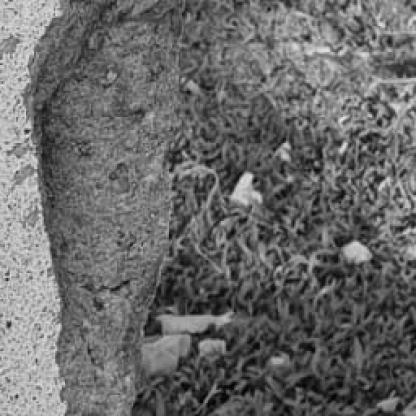cementitious_debris: (128, 2, 414, 414)
